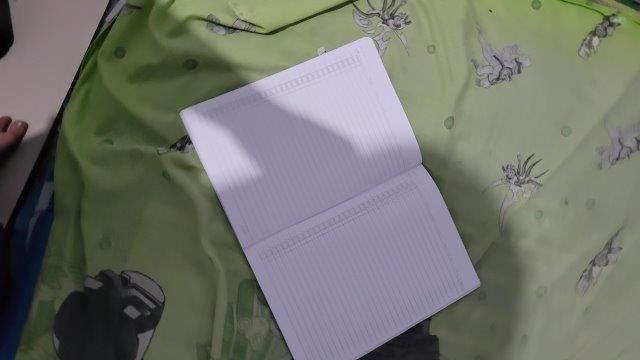kertas: (179, 37, 482, 360)
